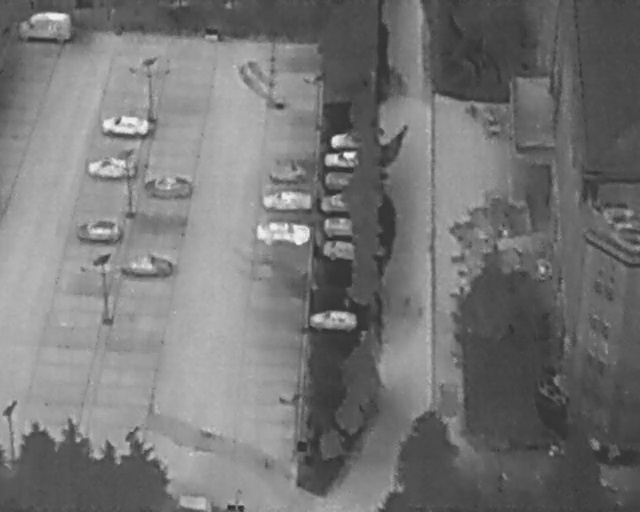Car: (17, 13, 72, 42), (256, 222, 310, 245), (261, 191, 313, 212), (100, 116, 151, 137), (143, 176, 190, 198), (307, 310, 358, 330), (85, 158, 135, 178), (121, 256, 173, 275), (75, 221, 120, 242), (322, 240, 357, 262), (322, 151, 365, 168), (322, 218, 356, 237), (326, 170, 359, 189), (318, 195, 354, 212), (330, 132, 366, 148)
